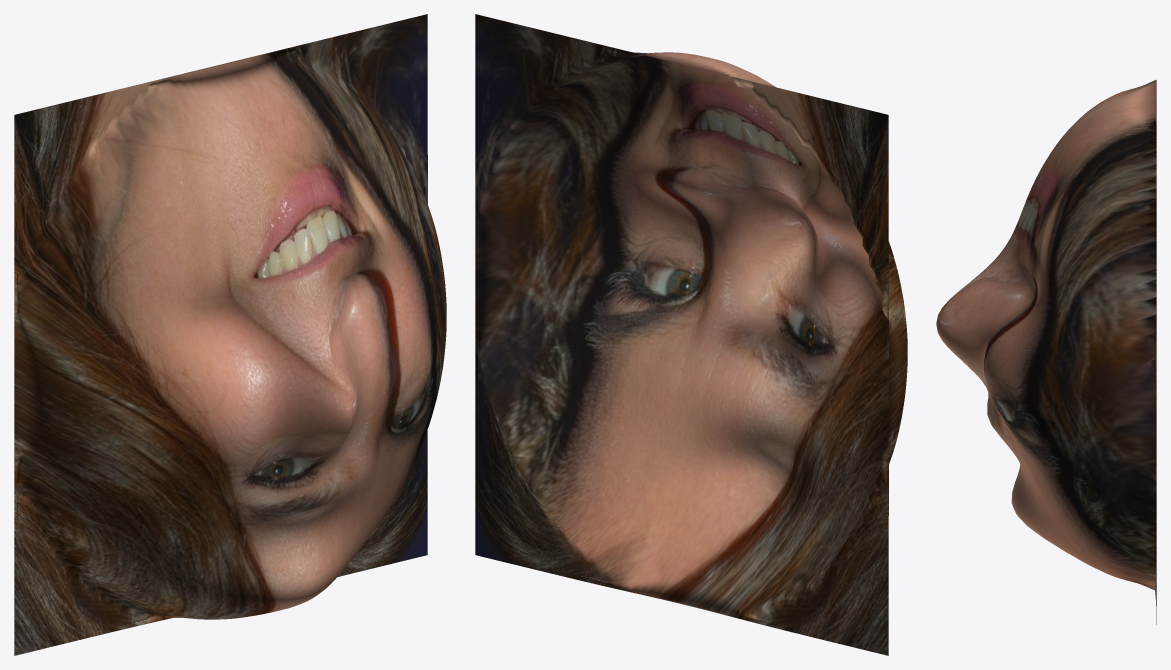
The picture shows the model from 3 angles, left to right: view 1: azimuth 30°, elevation 25°; view 2: azimuth 150°, elevation 25°; view 3: azimuth 270°, elevation 25°; orthographic projection. The views are drawn at different scales.
Parts seen in each view (by area): view 1: KatarinaWittFace; view 2: KatarinaWittFace; view 3: KatarinaWittFace.
Boxes of the visible parts, <box> form: KatarinaWittFace: <box>14,14,446,655</box>; KatarinaWittFace: <box>475,14,907,655</box>; KatarinaWittFace: <box>936,79,1156,624</box>.
Size of the model in its own units: 1.6 by 2 by 0.8531.
Materials: 1 (1 with a texture image).
